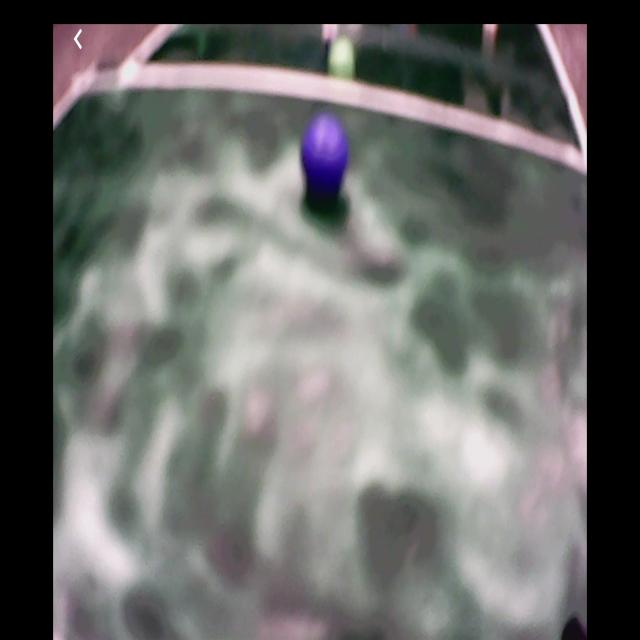ball: (299, 115, 349, 192)
